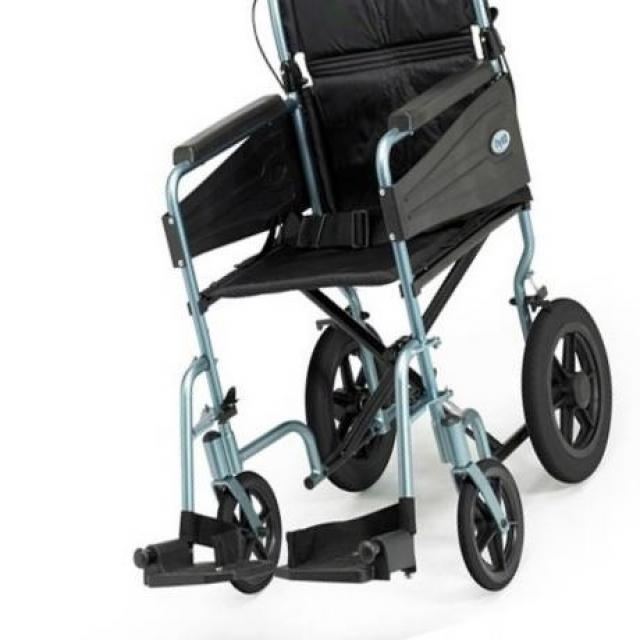wheelchair: (122, 0, 609, 597)
